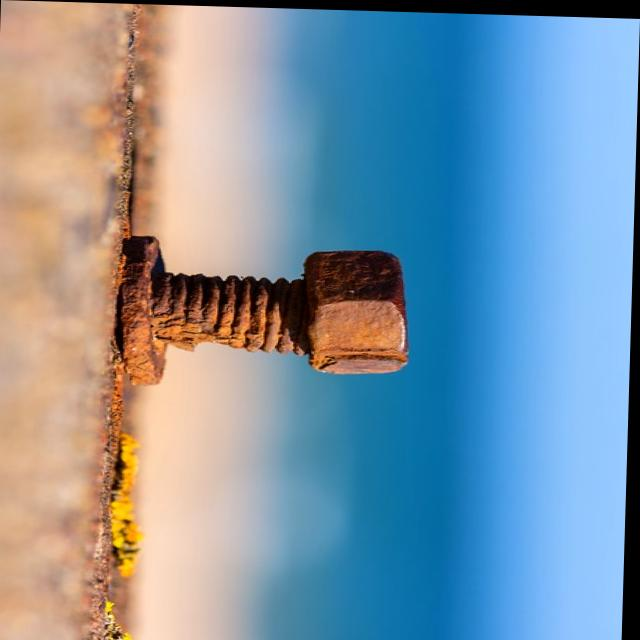Rusty bolt: (237, 243, 414, 374)
